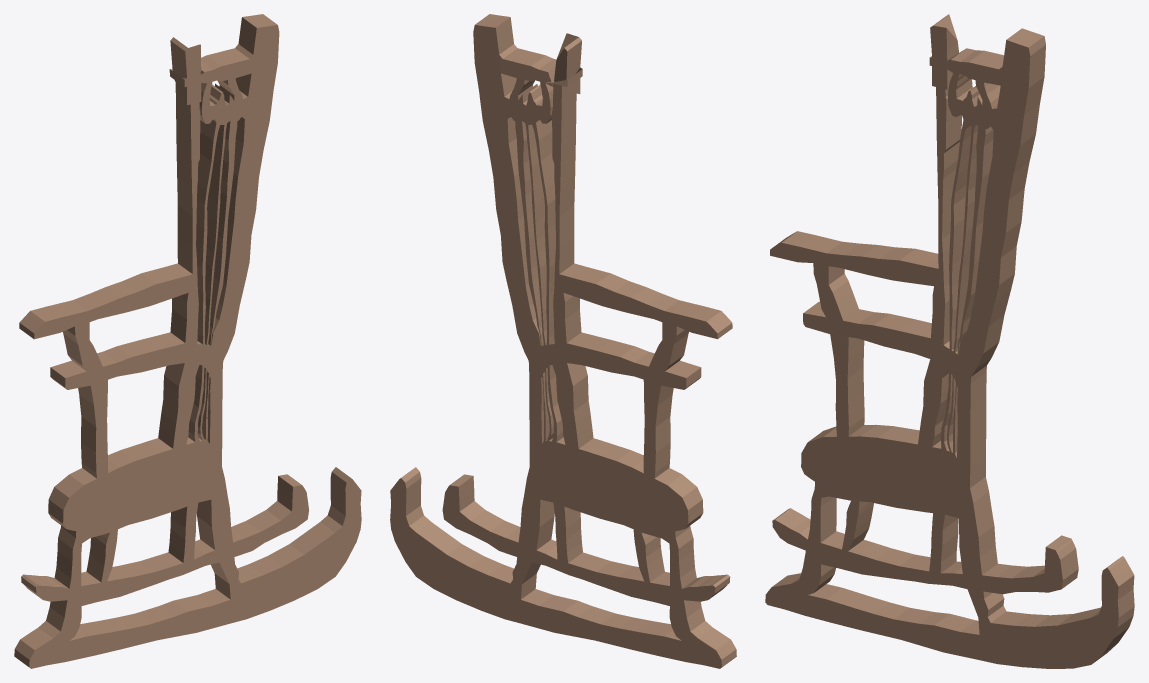
The model's file is rockingchair.fbx_rocking_chair.fbx.
The picture shows the model from 3 angles, left to right: view 1: azimuth 30°, elevation 25°; view 2: azimuth 150°, elevation 25°; view 3: azimuth 330°, elevation 25°; orthographic projection. The views are drawn at different scales.
Visible parts, largest first — view 1: rocking chair; view 2: rocking chair; view 3: rocking chair.
Part boxes in pixels (<box>): rocking chair: <box>14,14,361,668</box>; rocking chair: <box>390,14,736,668</box>; rocking chair: <box>765,14,1134,668</box>.
Bounding box in the file's own units: 12.88 × 21.88 × 1.04.
